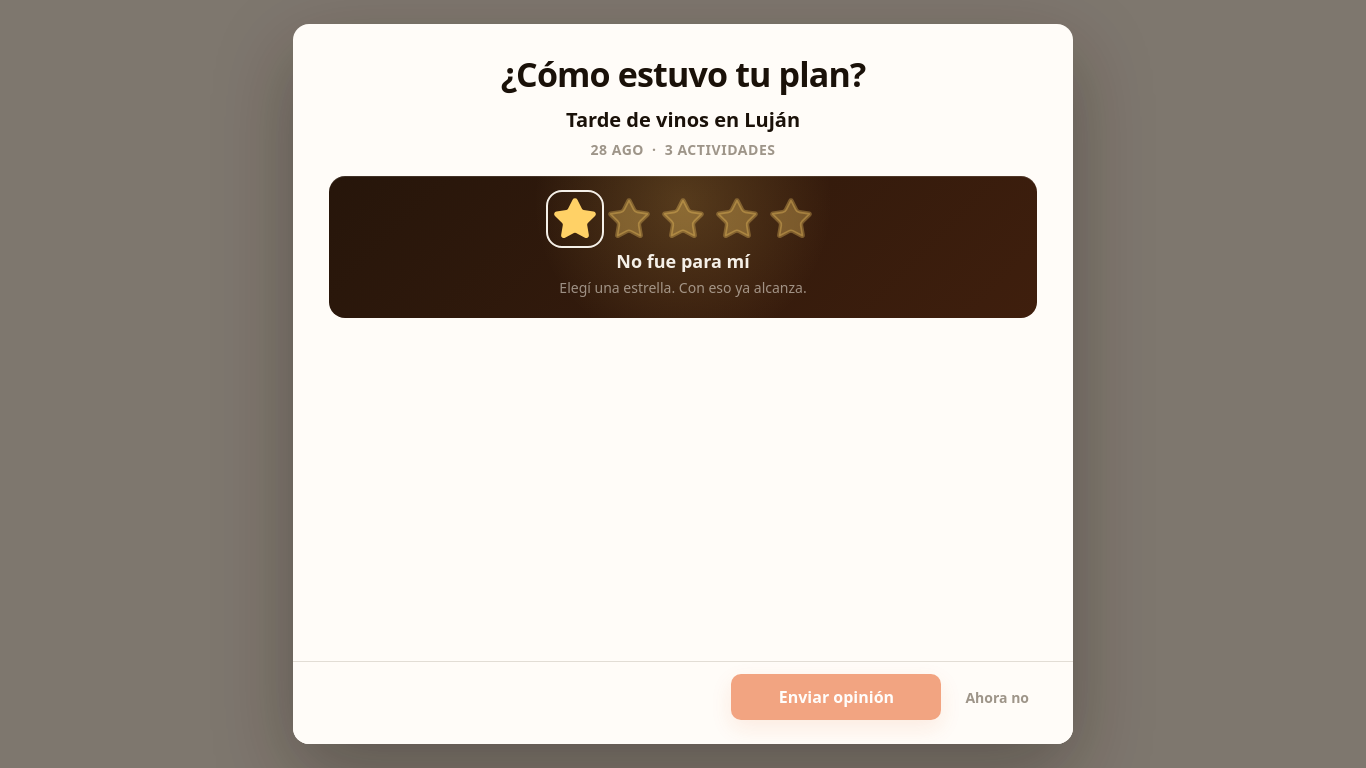
FeedbackDialog (CU23) › adapts the tag question to a low rating
Click the radio button named "2 estrellas — Podría mejorar" at point(629, 219), box [604,194,654,244]
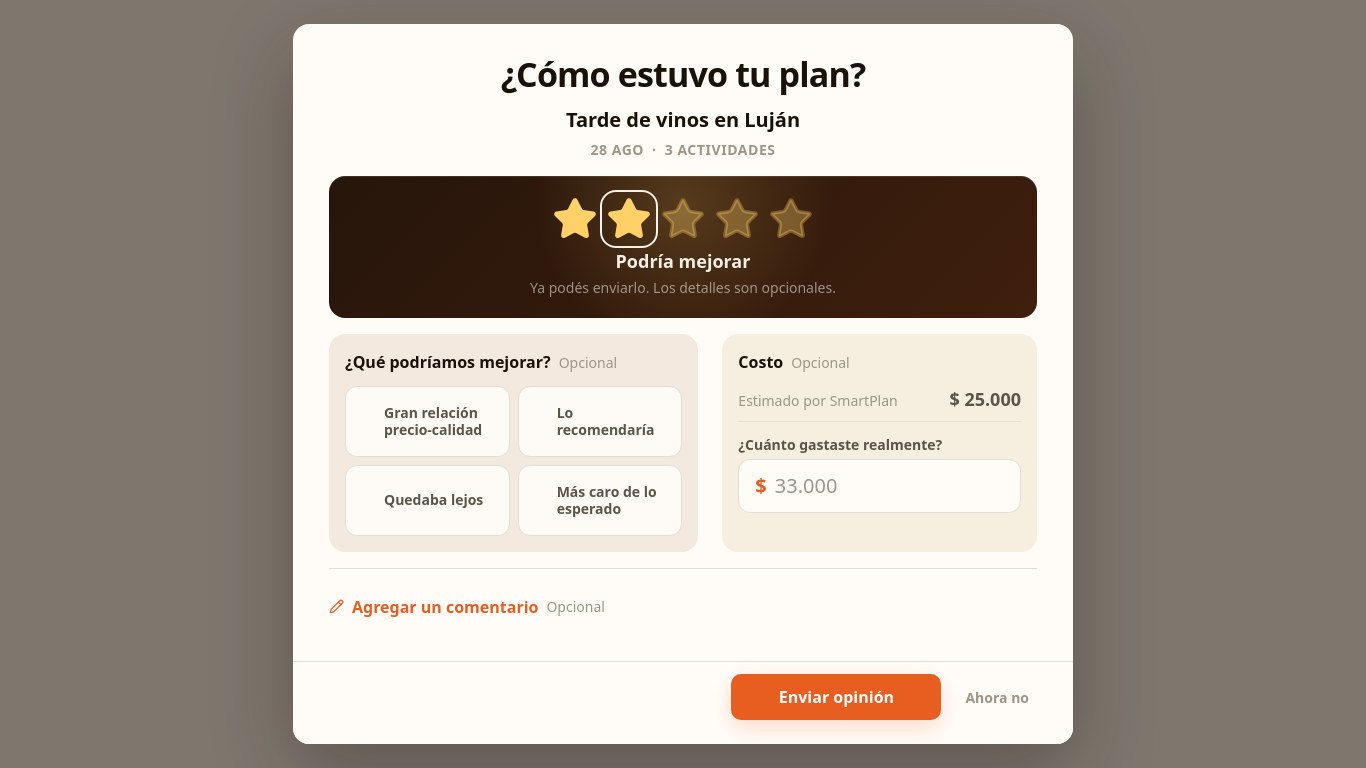
expect the text "¿Qué podríamos mejorar? Opcional" is shown: met, box [345,351,617,373]
